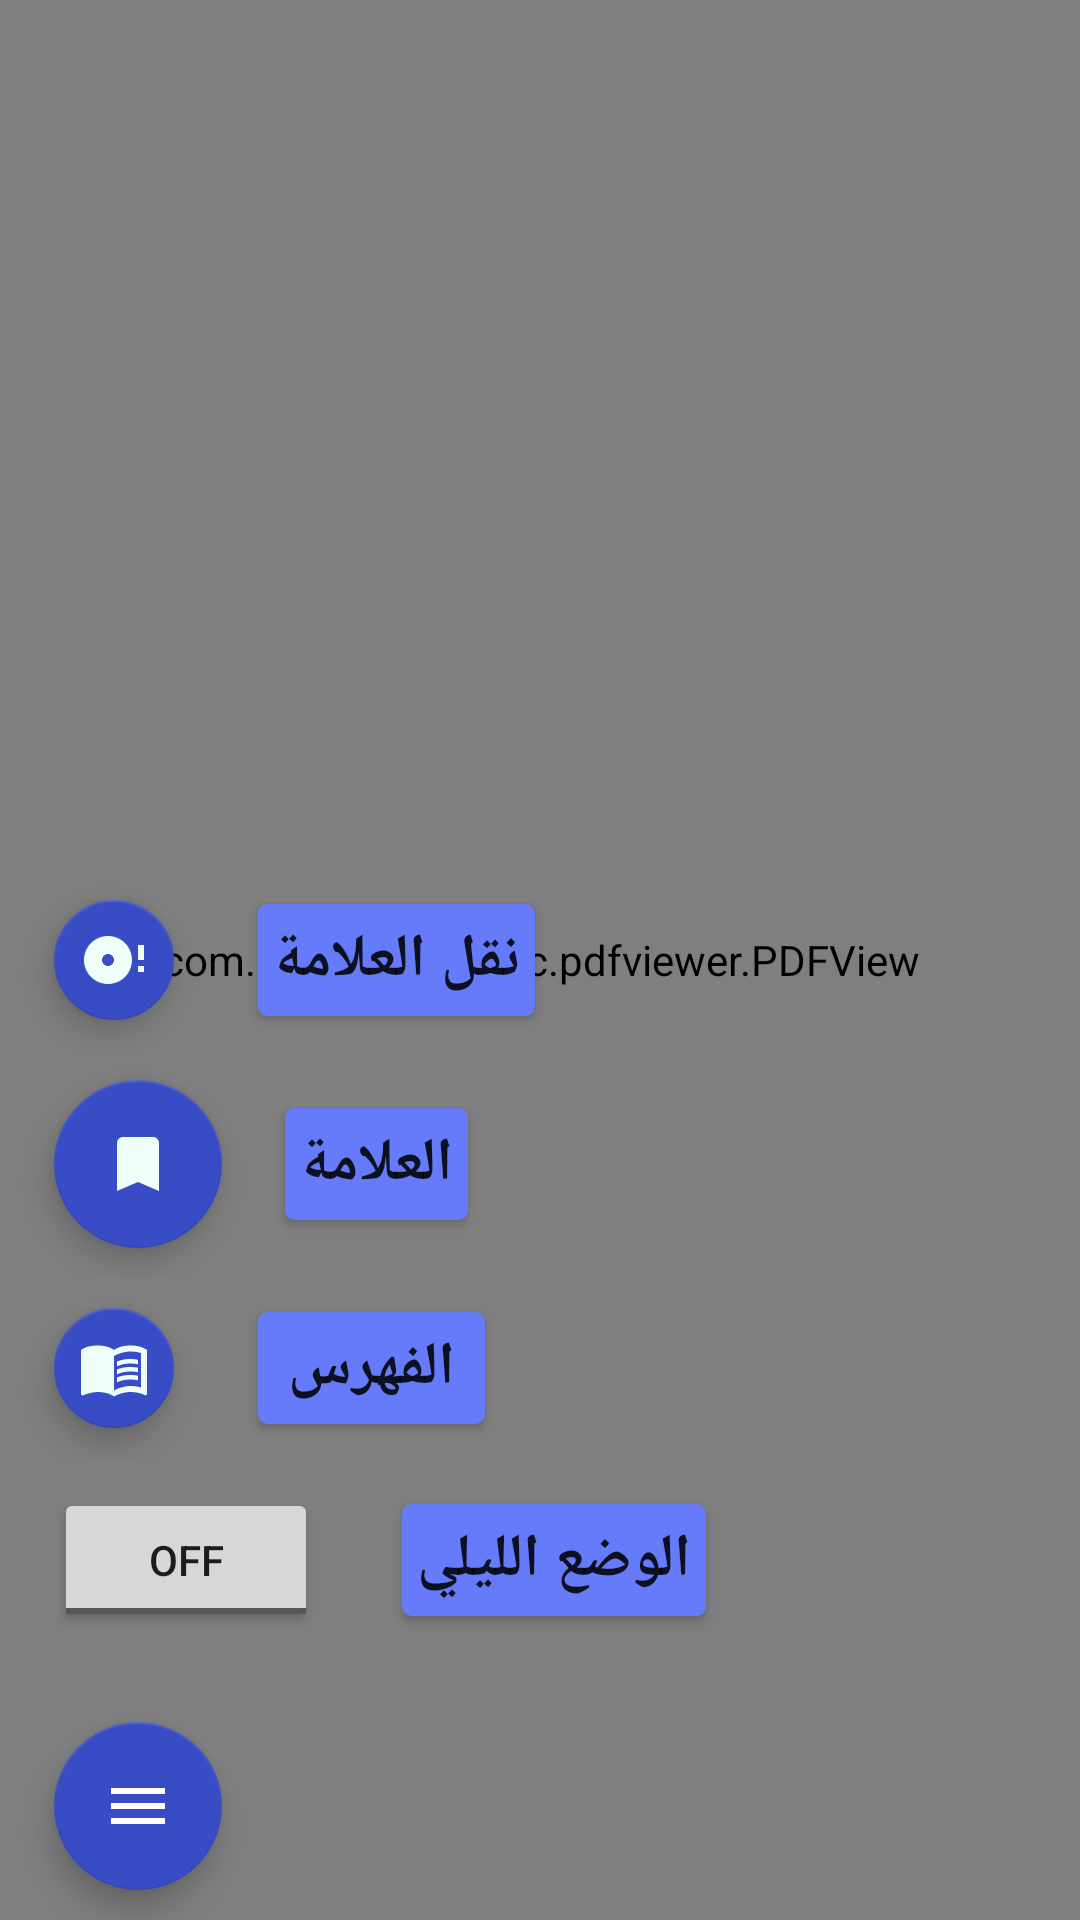

Where icons sit on this 1080 × 1920 app screen, as (x1, y1, x2, y2):
bookmark: (54, 1080, 222, 1248)
content: (54, 1308, 174, 1428)
menu: (54, 1722, 222, 1890)
